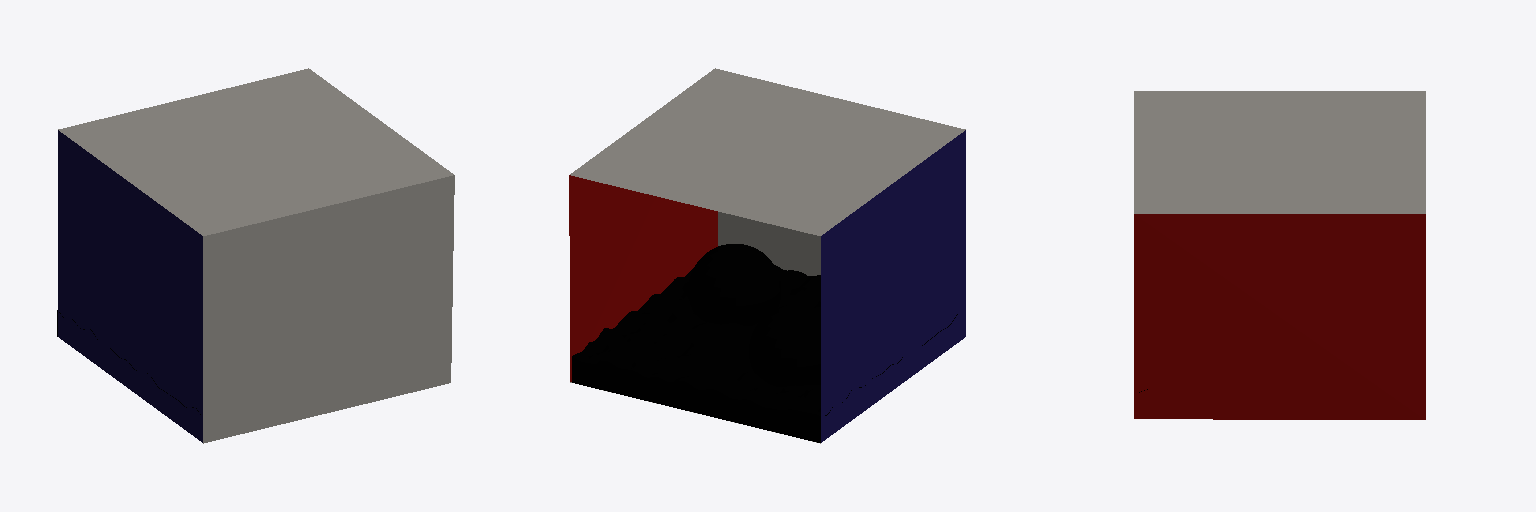
Rendered from cornell-box-water.obj.
3 renders of one model, left to right at view 1: azimuth 30°, elevation 25°; view 2: azimuth 150°, elevation 25°; view 3: azimuth 270°, elevation 25°, orthographic.
Visible parts, largest first — view 1: backWall, ceiling, rightWall; view 2: ceiling, rightWall, water, leftWall, leftSphere, rightSphere, backWall; view 3: leftWall, ceiling.
Boxes of the visible parts, box(x1,y1,x2,y2) form: backWall: box(203, 175, 454, 443); ceiling: box(58, 68, 453, 235); rightWall: box(58, 130, 202, 442); ceiling: box(570, 68, 965, 235); rightWall: box(821, 130, 965, 442); water: box(572, 265, 957, 442); leftWall: box(569, 175, 717, 381); leftSphere: box(688, 244, 780, 325); rightSphere: box(749, 304, 820, 386); backWall: box(718, 212, 820, 275); leftWall: box(1134, 214, 1425, 419); ceiling: box(1134, 91, 1425, 213).
Bounding box in the file's own units: 2.02 × 1.59 × 2.03.